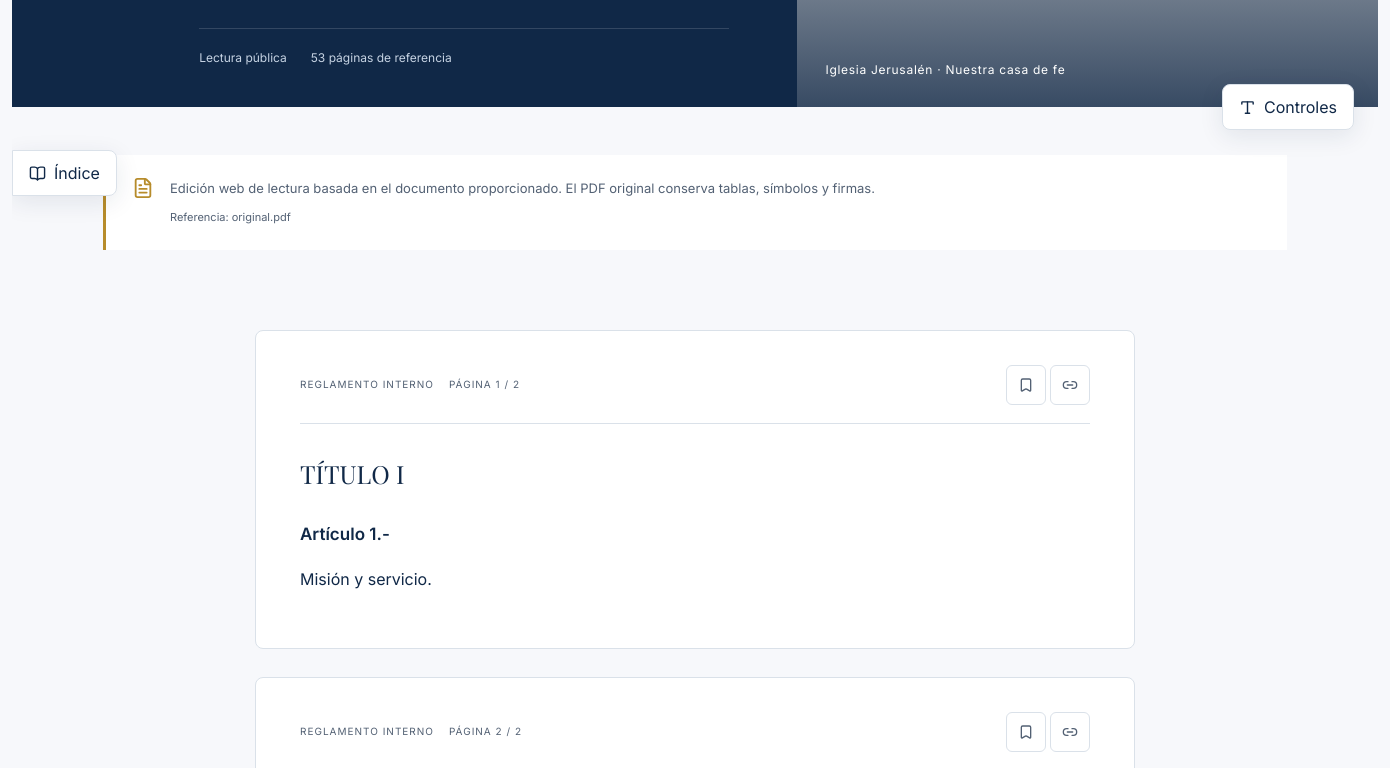
Test case: Herramientas documentales › informa cuando el navegador rechaza guardar un marcador
(page scrolled)
Expected: the heading "Artículo 1.-" is shown, [300,524,390,544]
What coordinates should you click on to do the following:
click the button named "Guardar página 1"
I would click on:
 (1026, 385)
Its box is [1006,365,1046,405].
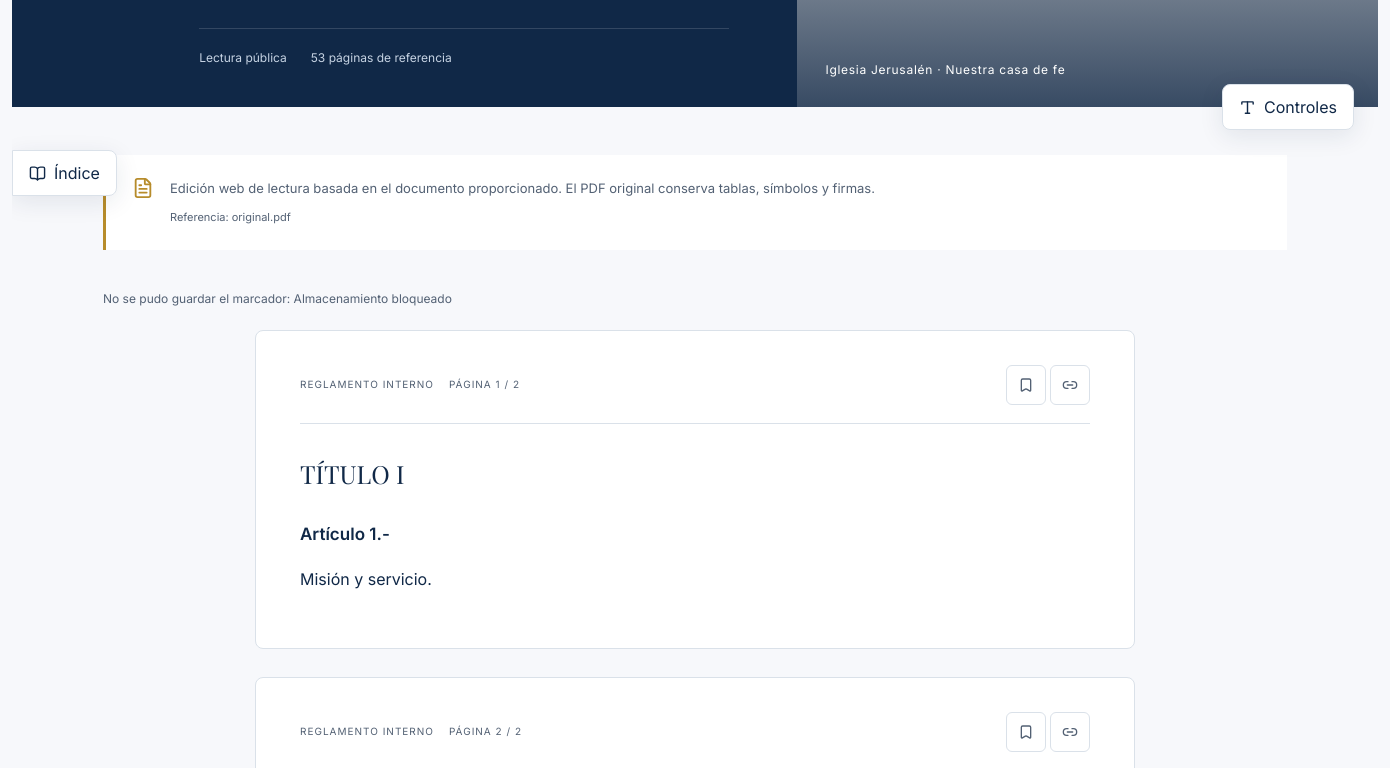
Now the message shows "No se pudo guardar el marcador", box [103,291,452,306]
